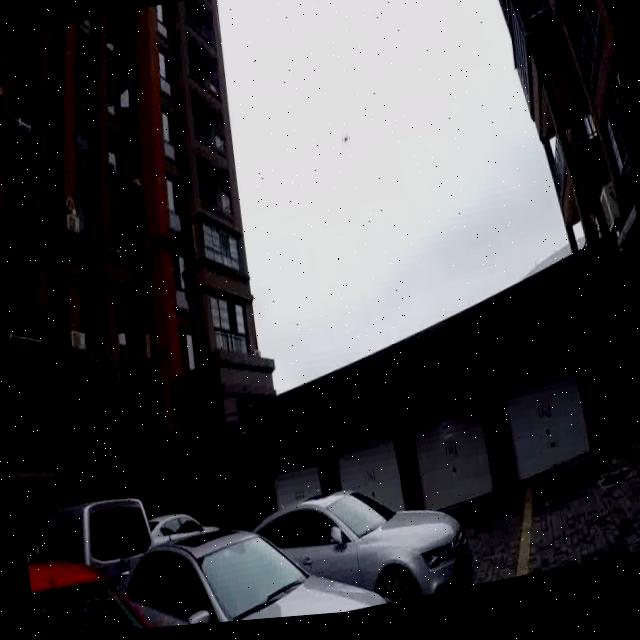drone: (330, 114, 351, 158)
